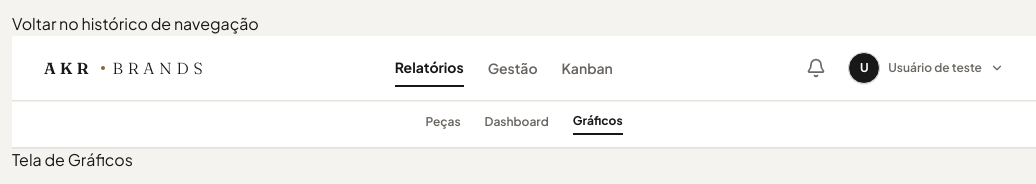
Submenu horizontal de Relatórios › remove a barra de Relatórios ao voltar para Gestão
Click the button "Gestão" at (513, 68), box x1=488 y1=50 x2=538 y2=86
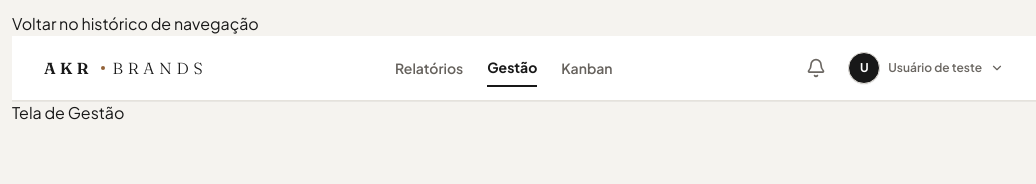
expect the heading "Tela de Gestão" is shown: met, box x1=12 y1=102 x2=124 y2=123
